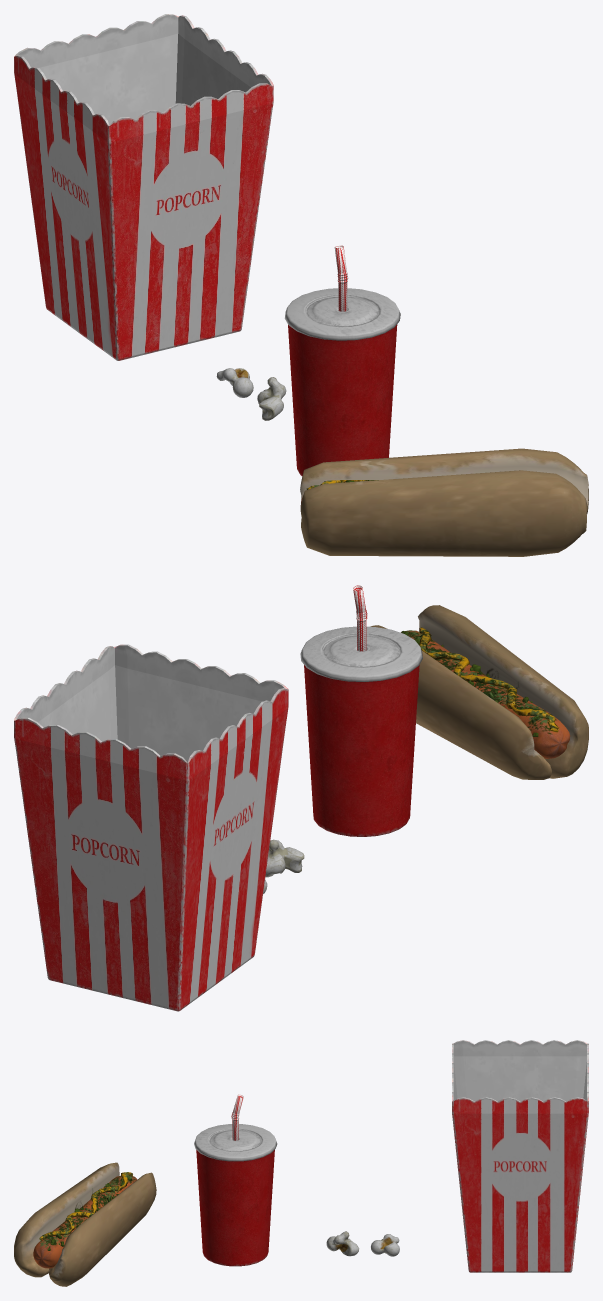
The model's file is movie_theater_props_v1.glb.
The picture shows the model from 3 angles, top to bottom: view 1: azimuth 30°, elevation 25°; view 2: azimuth 150°, elevation 25°; view 3: azimuth 270°, elevation 25°; orthographic projection. The views are drawn at different scales.
Parts seen in each view (by area): view 1: Cube_3, Cylinder.001_4, Cylinder_2, Mball.001_1, Mball.004_0; view 2: Cube_3, Cylinder_2, Cylinder.001_4, Mball.001_1; view 3: Cube_3, Cylinder_2, Cylinder.001_4, Mball.001_1, Mball.004_0.
Boxes of the visible parts, x1,y1,x2,y2 form: Cube_3: [14, 14, 273, 360]; Cylinder.001_4: [300, 448, 588, 556]; Cylinder_2: [284, 245, 400, 475]; Mball.001_1: [257, 377, 286, 420]; Mball.004_0: [216, 368, 253, 397]; Cube_3: [14, 644, 288, 1011]; Cylinder_2: [300, 585, 422, 836]; Cylinder.001_4: [370, 605, 588, 779]; Mball.001_1: [265, 839, 304, 877]; Cube_3: [452, 1040, 588, 1272]; Cylinder_2: [194, 1094, 277, 1266]; Cylinder.001_4: [14, 1162, 156, 1286]; Mball.001_1: [326, 1231, 359, 1256]; Mball.004_0: [371, 1234, 399, 1256].
Size of the model in its own units: 0.3629 by 0.3579 by 1.
Materials: 5 (5 with a texture image).
